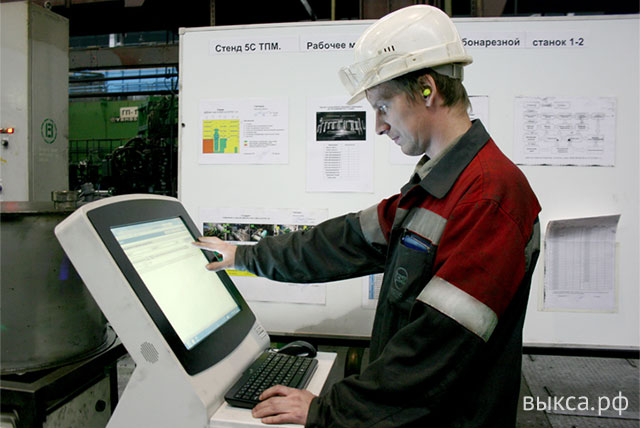person: (191, 4, 542, 428)
